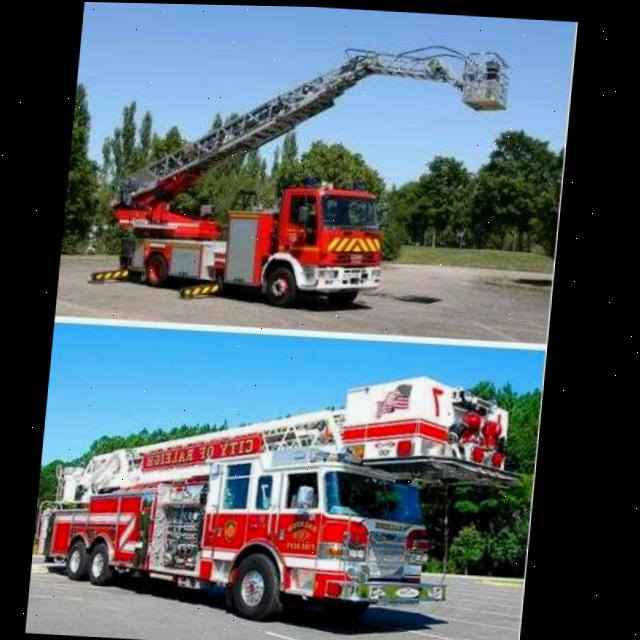emergency: (36, 354, 533, 632), (107, 170, 389, 311)
